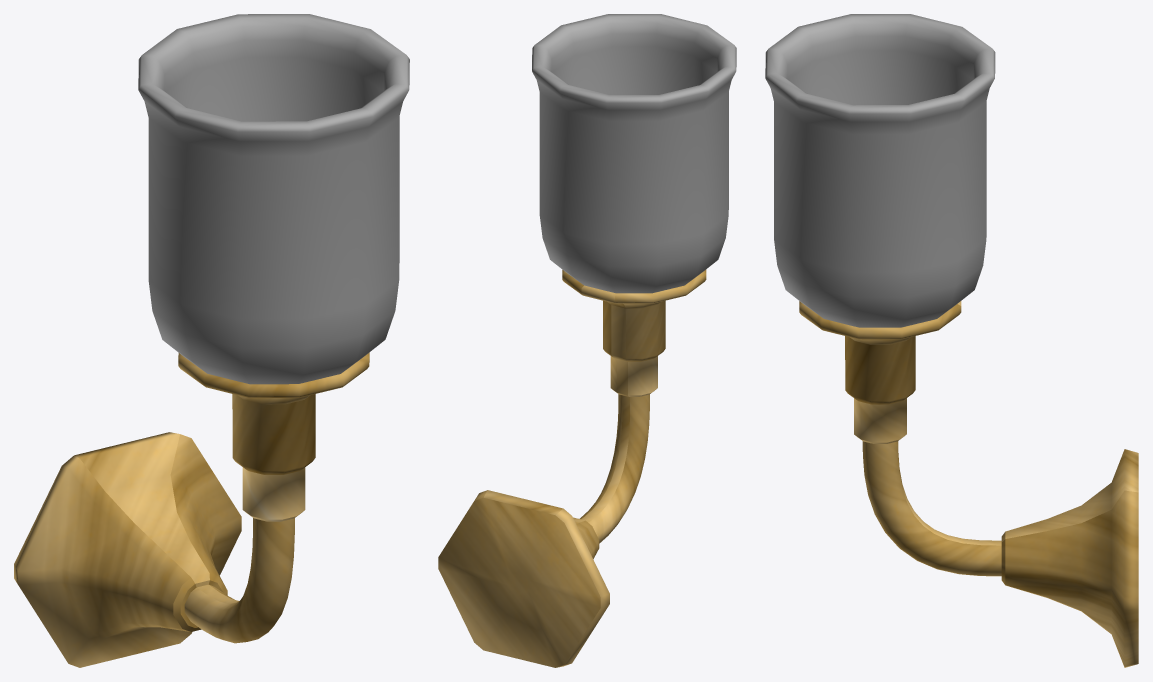
File: Misc_WallCandle.fbx
3 views of the same model, side by side, from view 1: azimuth 30°, elevation 25°; view 2: azimuth 150°, elevation 25°; view 3: azimuth 270°, elevation 25° (orthographic). The views are drawn at different scales.
Visible parts, largest first — view 1: CandleWallUVd:polySurface121; view 2: CandleWallUVd:polySurface121; view 3: CandleWallUVd:polySurface121.
Part boxes in pixels (box(x1,y1,x2,y2)): CandleWallUVd:polySurface121: box(14, 14, 409, 667); CandleWallUVd:polySurface121: box(438, 14, 736, 667); CandleWallUVd:polySurface121: box(765, 14, 1138, 667).
Size of the model in its own units: 10.07 by 28.29 by 16.34.
